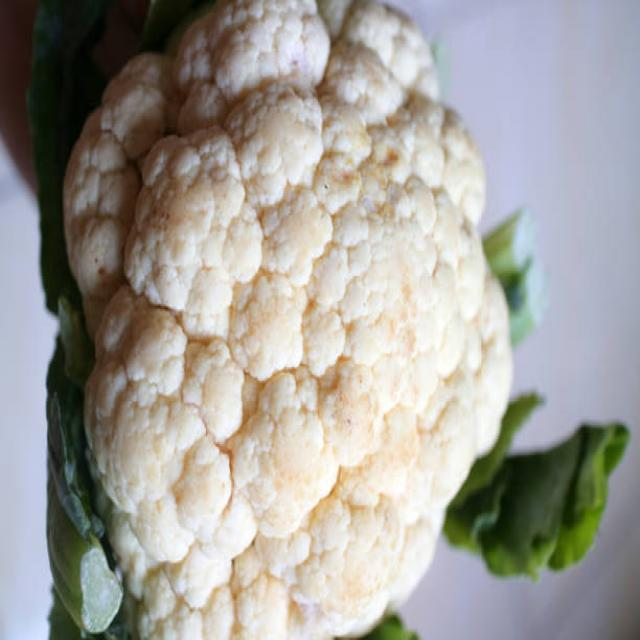cauliflower: (36, 0, 577, 640)
